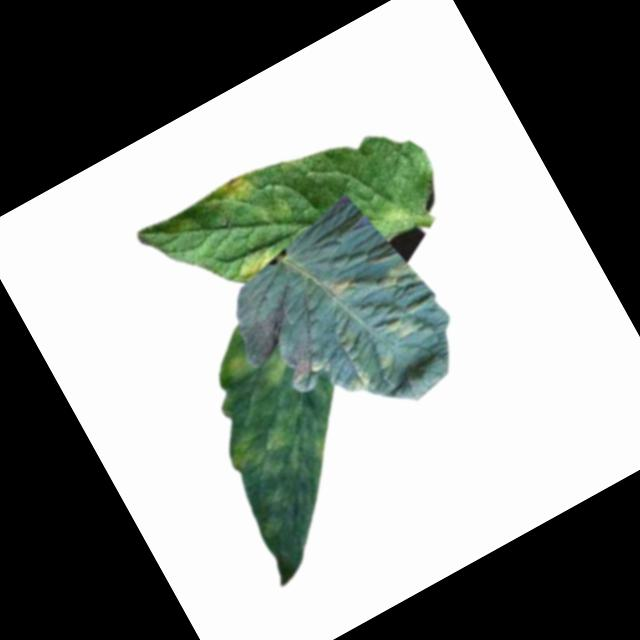Leaf_Mold: (218, 395, 335, 499), (368, 249, 428, 304), (232, 242, 285, 291), (250, 344, 297, 393), (379, 304, 429, 350), (316, 265, 364, 311), (212, 171, 257, 213), (216, 350, 256, 389), (339, 364, 379, 400), (373, 349, 400, 375)
